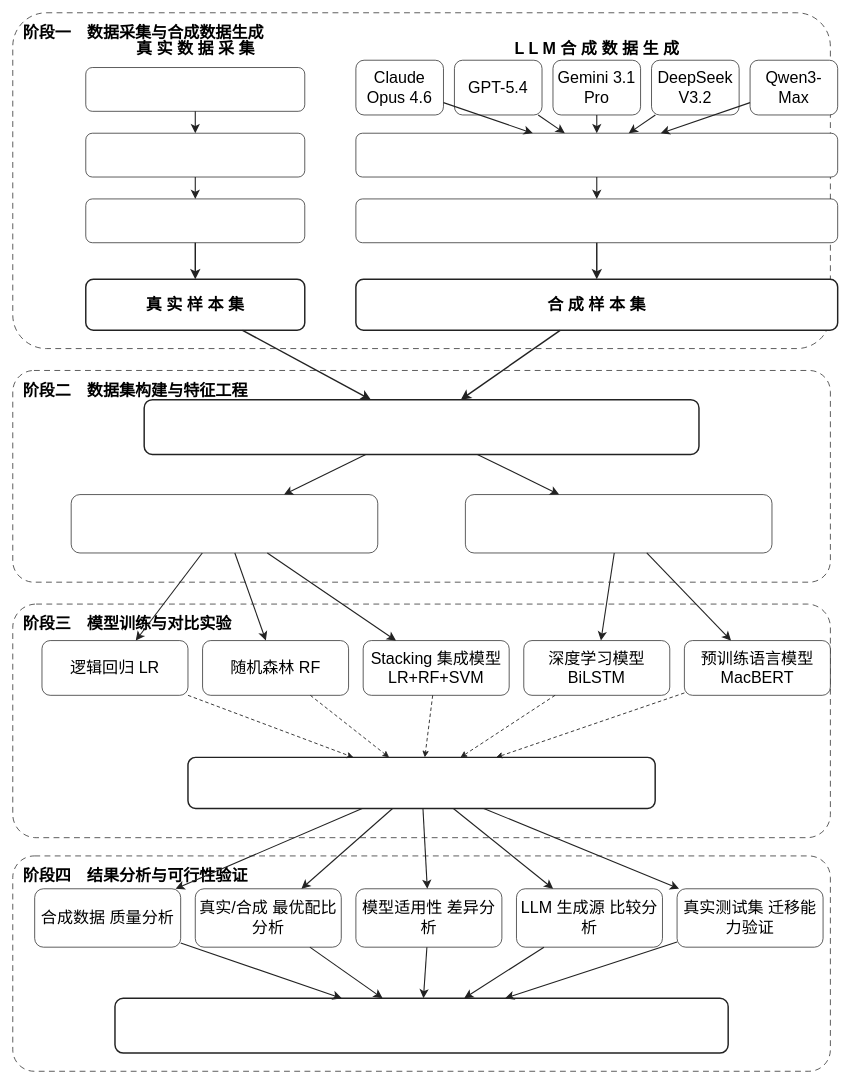
The diagram is 851 pixels wide and 1084 high, and some of its shapes have lost their labels. The shapes that lost their labels are listed below. From the top down, each one's centre as x and y in pixels, then its label:
At pixel 195 89: "抖音平台健康类视频采集".
At pixel 195 154: "音频提取与语音转写".
At pixel 596 154: "统一提示工程框架 （老年人语言习惯 + 健康关注点适配）".
At pixel 195 220: "数据清洗与隐私脱敏".
At pixel 596 220: "合成数据质量评估与筛选".
At pixel 421 427: "真实数据 + 合成数据 按比例混合 合成数据占比：0% / 25% / 50% / 75% / 100% — 共 5 组实验数据集".
At pixel 224 523: "TF-IDF 词频统计特征 （用于传统机器学习模型）".
At pixel 618 523: "原始文本序列 （用于深度学习与预训练模型）".
At pixel 421 782: "系 统 对 比 实 验 结 果 （不同合成比例 × 不同 LLM 生成源 × 5 种模型）".
At pixel 421 1025: "研 究 结 论 LLM 合成数据驱动老年群体虚假健康信息识别的可行性验证".
